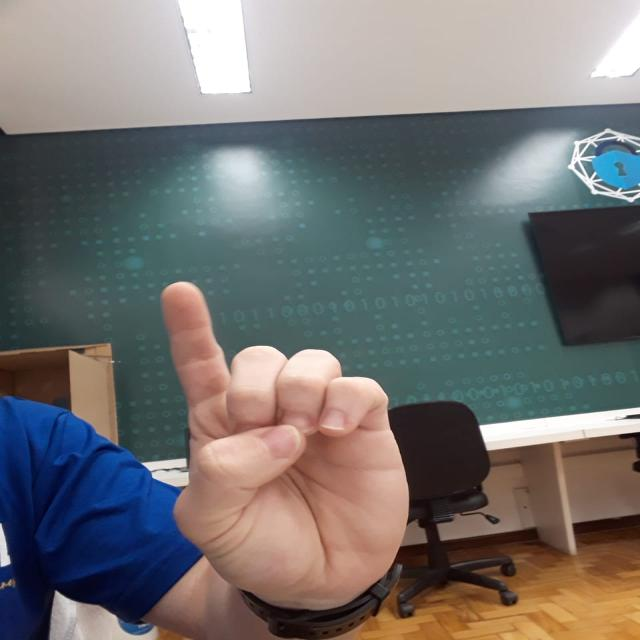D2: (149, 274, 411, 602)
